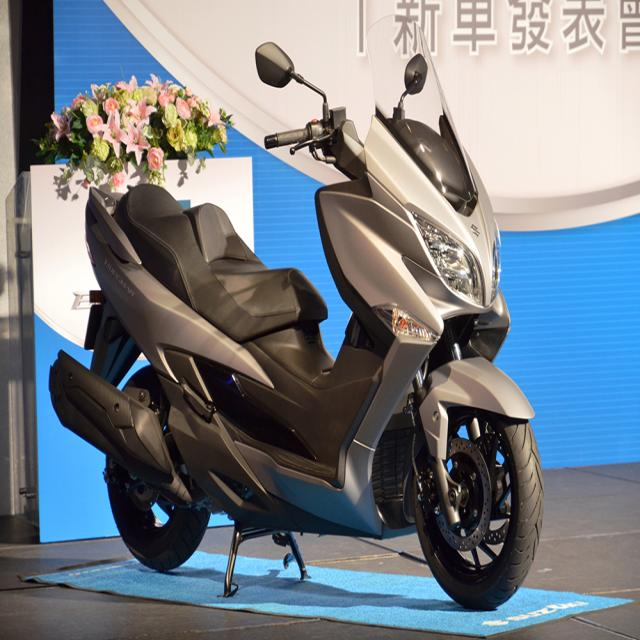Bike: (47, 16, 543, 613)
